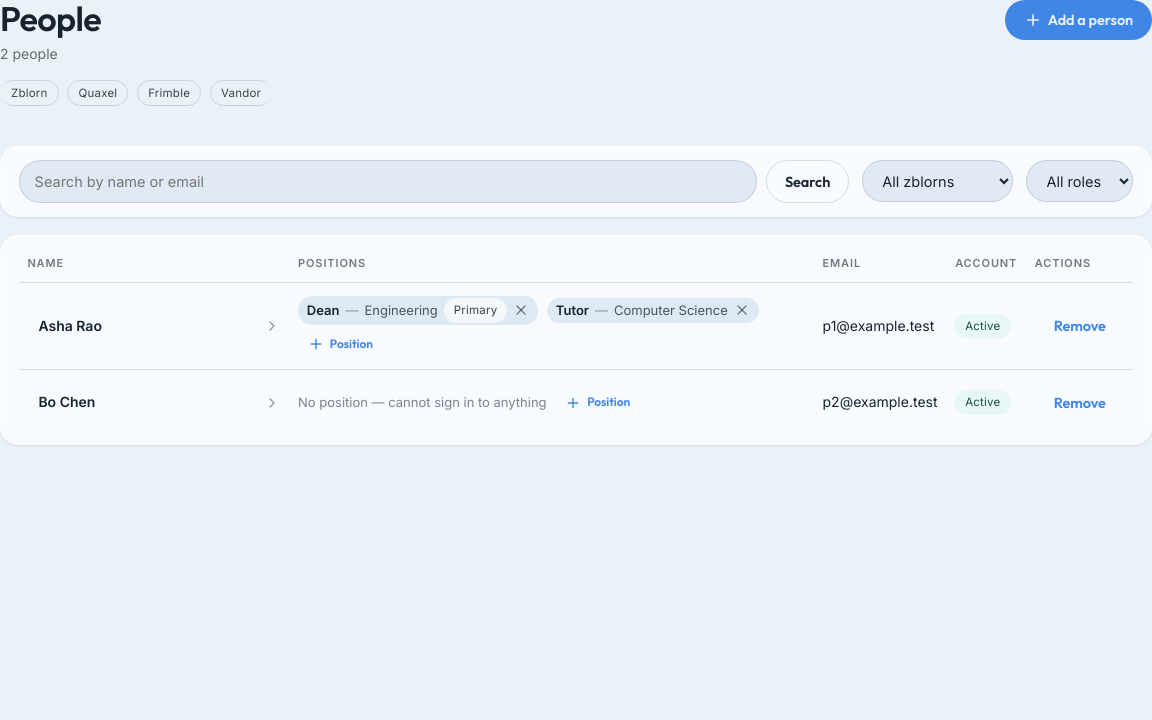
adding a person › asks for a name and an email and NOTHING about permissions
The image size is (1152, 720).
Click the button "Add a person" at (1078, 20), box top-left (1005, 0), bottom-right (1151, 40)
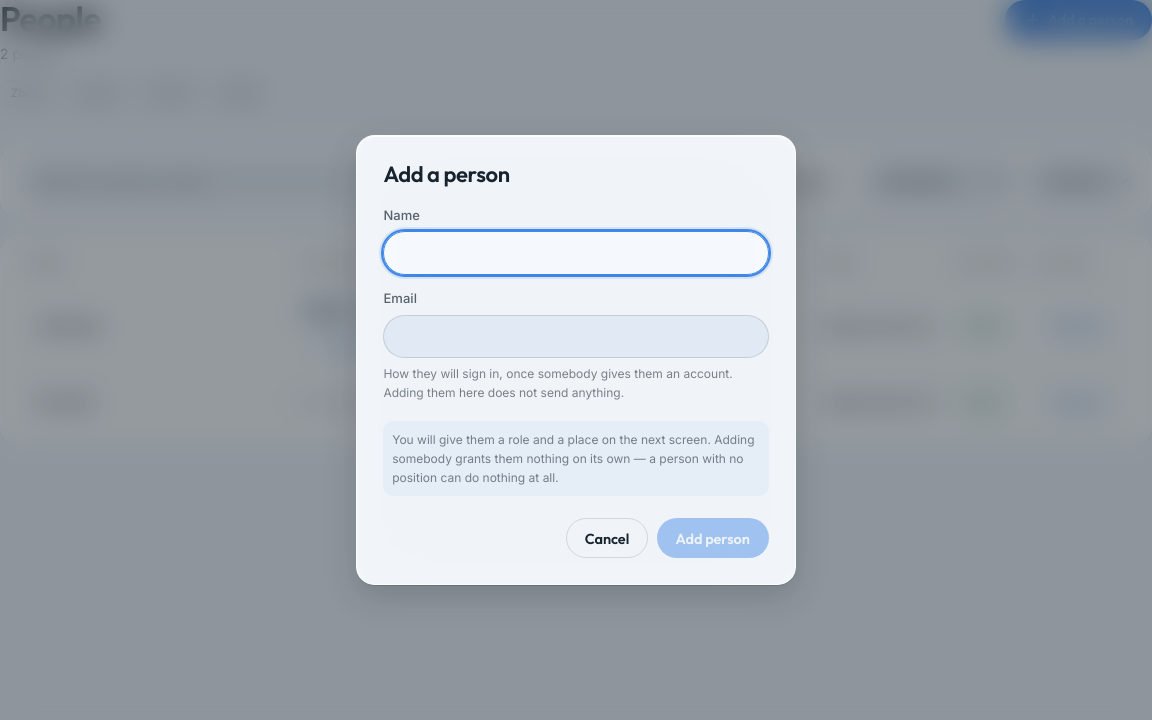
Expected: the field labelled "Name" is shown, top-left (383, 231), bottom-right (769, 275)
Expected: the field labelled "Email" is shown, top-left (383, 315), bottom-right (769, 358)
